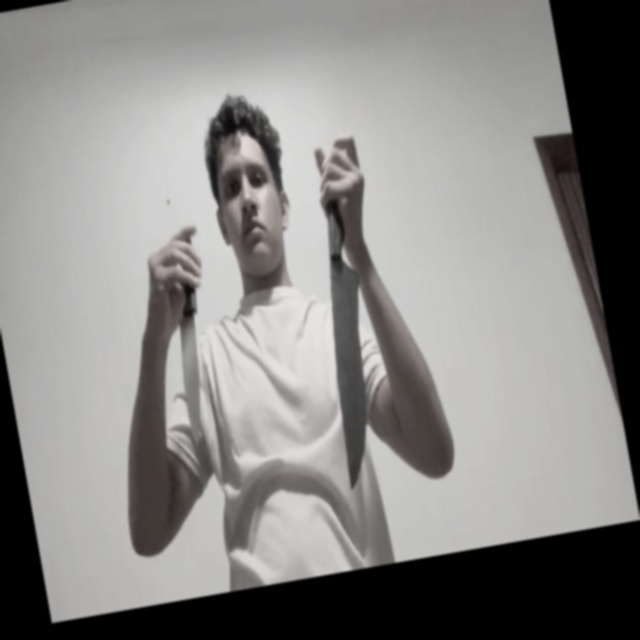Sharp-Object: (312, 259, 395, 488), (170, 314, 217, 447)
